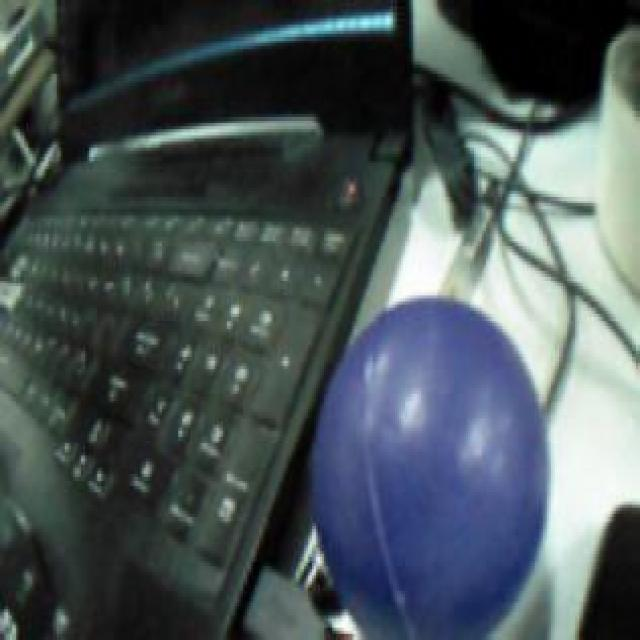BallPurple: (309, 297, 550, 640)
